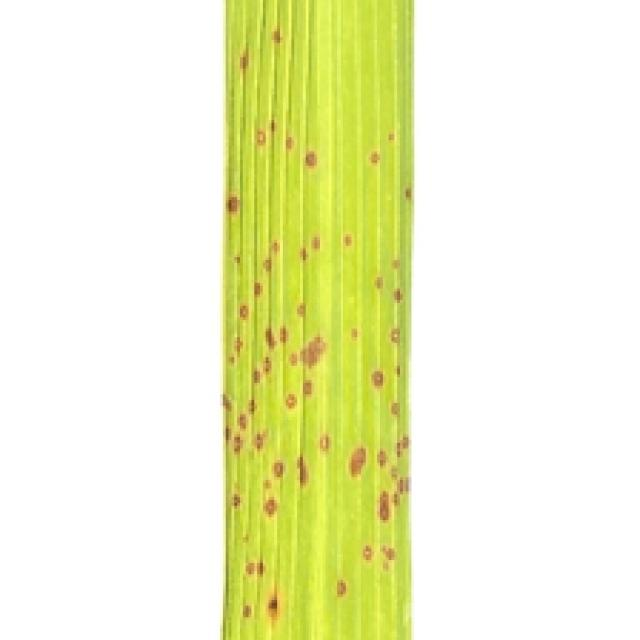Rice___Brown_Spot: (219, 0, 415, 637)
